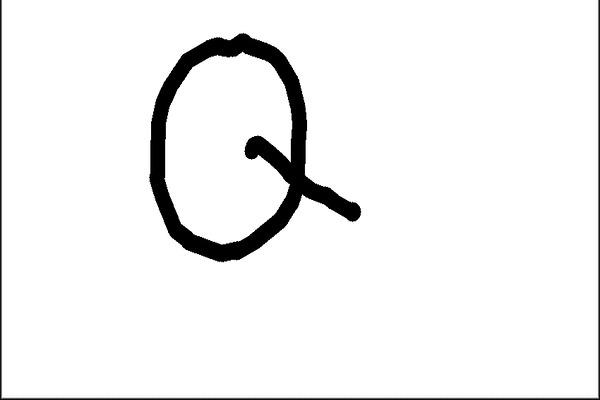Q: (126, 18, 373, 275)
